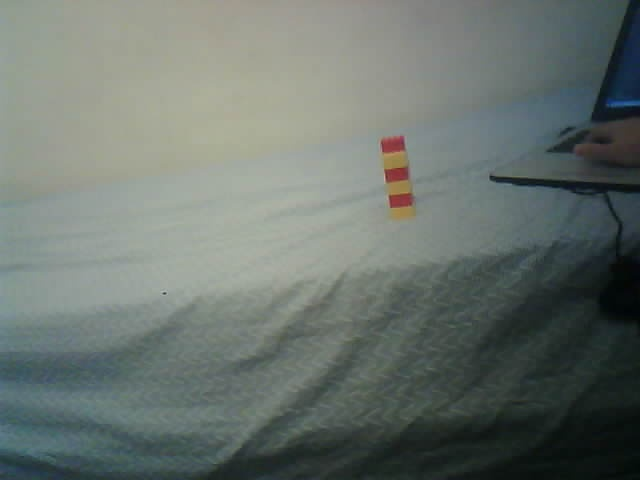lego: (380, 135, 416, 221)
